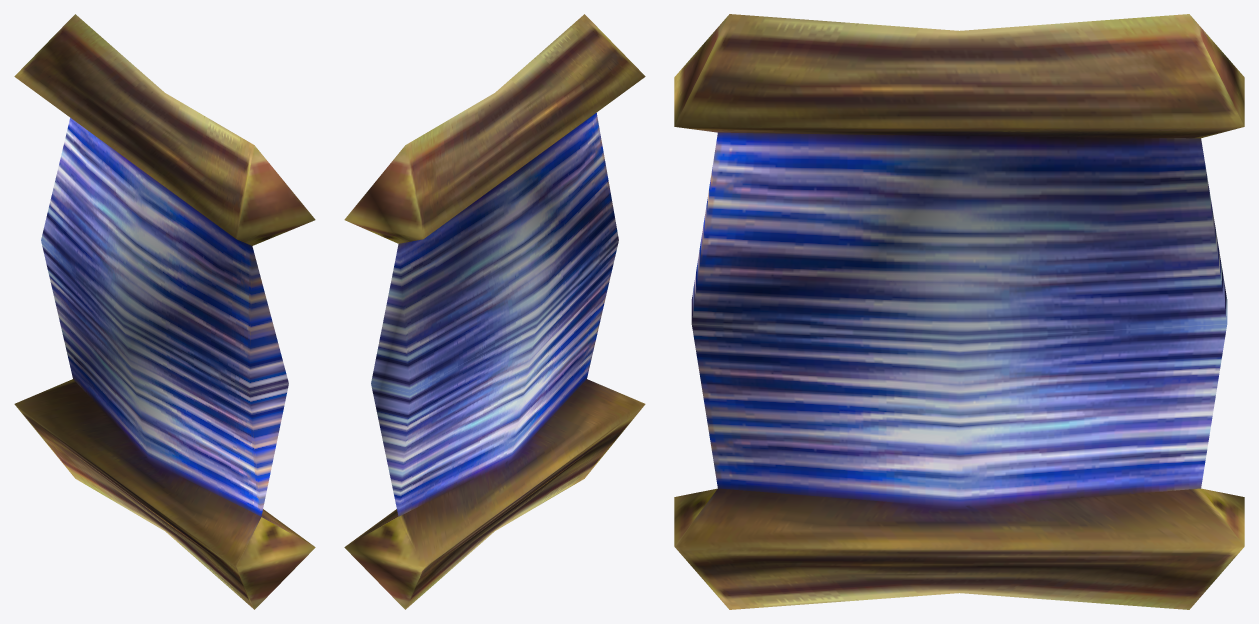
The model's file is clothyarnblue.obj.
The picture shows the model from 3 angles, left to right: view 1: azimuth 30°, elevation 25°; view 2: azimuth 150°, elevation 25°; view 3: azimuth 270°, elevation 25°; orthographic projection. The views are drawn at different scales.
Visible parts, largest first — view 1: clothyarnblue; view 2: clothyarnblue; view 3: clothyarnblue.
Part boxes in pixels (left/top/right/bottom): clothyarnblue: left=14, top=14, right=315, bottom=609; clothyarnblue: left=344, top=14, right=645, bottom=609; clothyarnblue: left=674, top=14, right=1244, bottom=609.
Size of the model in its own units: 0.0912 by 0.4803 by 0.4165.
Materials: 1 (1 with a texture image).
